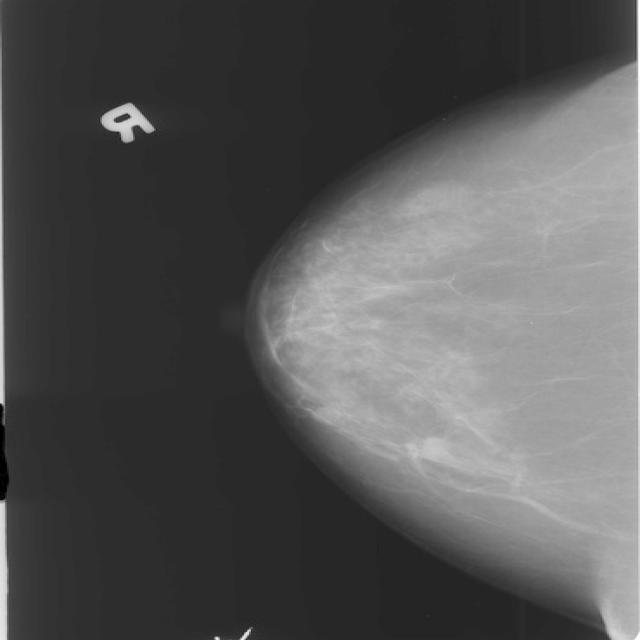tumour: (405, 435, 448, 464)
